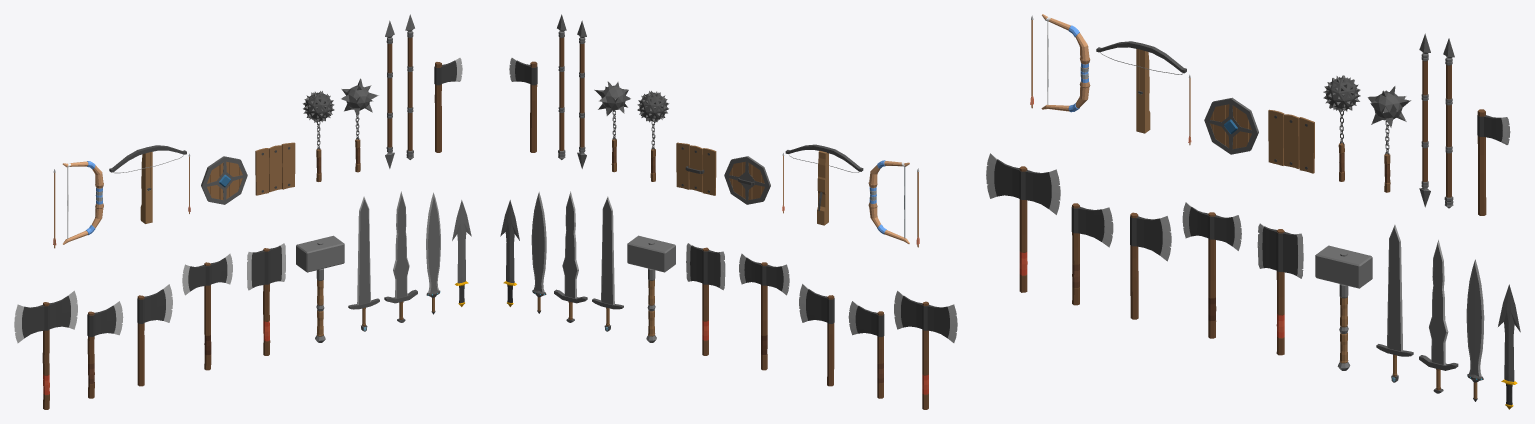
The model's file is Medeval Packblend.fbx.
3 views of the same model, side by side, from view 1: azimuth 30°, elevation 25°; view 2: azimuth 150°, elevation 25°; view 3: azimuth 330°, elevation 25° (orthographic). The views are drawn at different scales.
Visible parts, largest first — view 1: Circle.016, Circle.007, Plane.006, Circle.003, Plane.004, Cube.004, Plane.005, Cube, Cube.002, Plane.002, Cube.003, Circle.006 (+7 smaller); view 2: Circle.016, Circle.007, Plane.006, Circle.003, Plane.004, Cube.004, Cube, Plane.005, Cube.002, Plane.002, Cube.003, Circle.006 (+7 smaller); view 3: Circle.016, Circle.007, Plane.006, Circle.003, Plane.004, Cube.004, Plane.005, Cube, Cube.002, Plane.002, Cube.003, Circle.006 (+7 smaller).
Part boxes in pixels (<box>): Circle.016: <box>14,290,77,409</box>; Circle.007: <box>296,235,344,342</box>; Plane.006: <box>247,243,285,355</box>; Circle.003: <box>255,142,295,195</box>; Plane.004: <box>182,253,232,370</box>; Cube.004: <box>201,156,247,204</box>; Plane.005: <box>137,284,172,386</box>; Cube: <box>348,196,379,331</box>; Cube.002: <box>384,191,417,322</box>; Plane.002: <box>87,301,123,398</box>; Cube.003: <box>109,145,186,223</box>; Circle.006: <box>426,192,440,314</box>; Circle.016: <box>894,290,957,409</box>; Circle.007: <box>627,235,675,342</box>; Plane.006: <box>686,243,725,355</box>; Circle.003: <box>676,142,716,195</box>; Plane.004: <box>739,253,789,370</box>; Cube.004: <box>724,156,770,204</box>; Cube: <box>592,196,623,331</box>; Plane.005: <box>799,284,834,386</box>; Cube.002: <box>554,191,587,322</box>; Plane.002: <box>848,301,884,398</box>; Cube.003: <box>785,144,863,225</box>; Circle.006: <box>531,192,546,313</box>; Circle.016: <box>986,153,1060,292</box>; Circle.007: <box>1315,245,1372,370</box>; Plane.006: <box>1257,223,1303,355</box>; Circle.003: <box>1268,109,1314,173</box>; Plane.004: <box>1182,202,1241,338</box>; Cube.004: <box>1204,97,1258,154</box>; Plane.005: <box>1130,212,1171,319</box>; Cube: <box>1376,225,1413,382</box>; Cube.002: <box>1419,240,1458,393</box>; Plane.002: <box>1071,203,1113,305</box>; Cube.003: <box>1096,41,1186,133</box>; Circle.006: <box>1466,259,1484,401</box>.
Size of the model in its own units: 13643 by 8727 by 1064.
15 materials, 15 textured.
